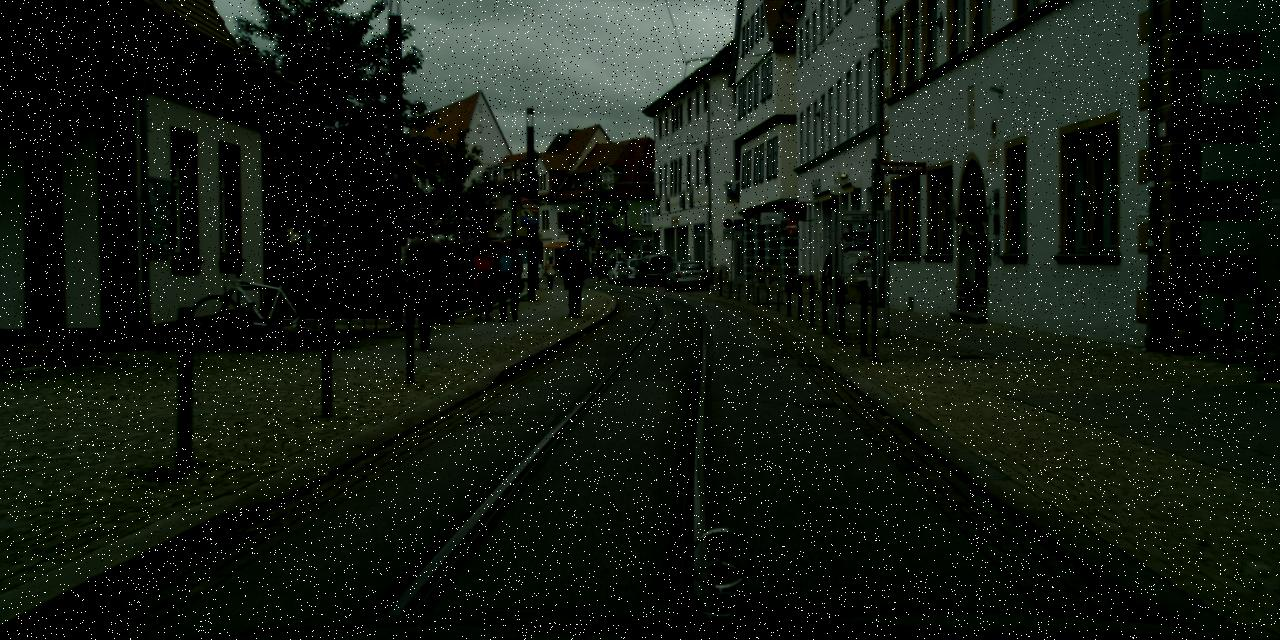ped: (399, 214, 452, 344), (490, 236, 524, 320), (556, 233, 590, 316), (468, 242, 499, 320), (824, 244, 848, 304), (542, 256, 556, 288), (608, 255, 617, 276)
